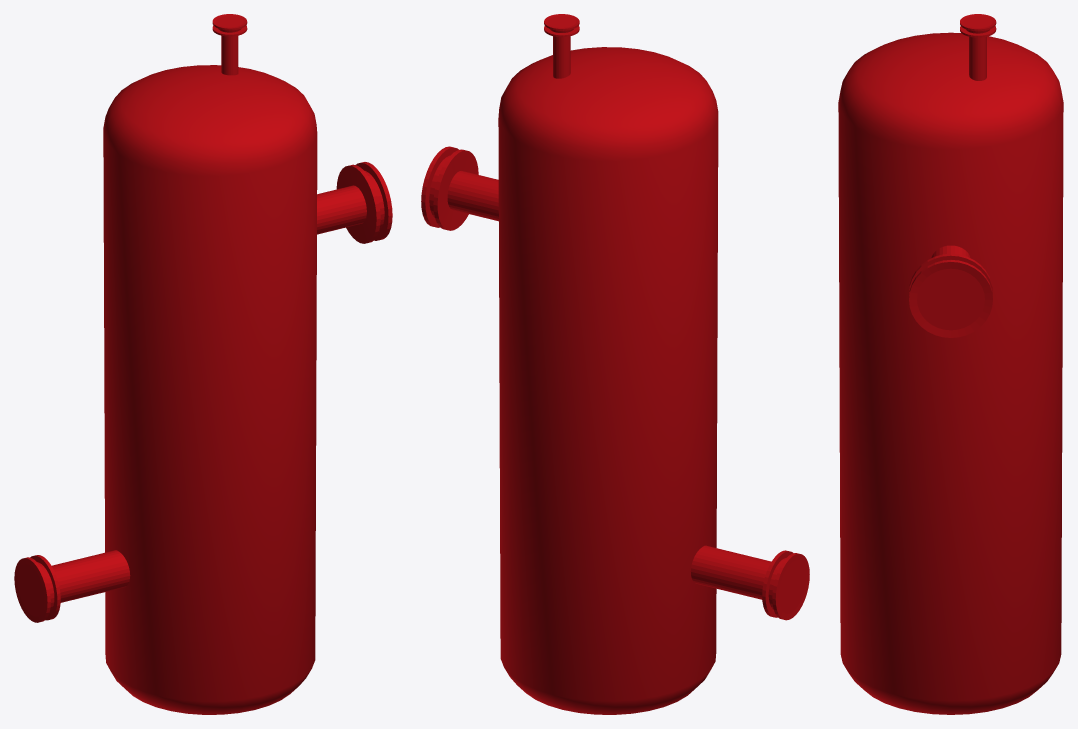
The model's file is ровв.fbx.
3 renders of one model, left to right at view 1: azimuth 30°, elevation 25°; view 2: azimuth 150°, elevation 25°; view 3: azimuth 270°, elevation 25°, orthographic. The views are drawn at different scales.
Visible parts, largest first — view 1: Sphere.011, Cylinder.042, Cylinder.041, Cylinder.040; view 2: Sphere.011, Cylinder.042, Cylinder.041, Cylinder.040; view 3: Sphere.011, Cylinder.041, Cylinder.040.
Boxes of the visible parts, <box> form: Sphere.011: <box>103,65,317,714</box>; Cylinder.042: <box>14,550,130,622</box>; Cylinder.041: <box>317,162,392,243</box>; Cylinder.040: <box>212,14,247,75</box>; Sphere.011: <box>498,47,718,714</box>; Cylinder.042: <box>691,545,809,620</box>; Cylinder.041: <box>421,146,498,230</box>; Cylinder.040: <box>544,14,579,78</box>; Sphere.011: <box>838,32,1063,714</box>; Cylinder.041: <box>909,245,992,337</box>; Cylinder.040: <box>960,14,996,80</box>.
Bounding box in the file's own units: 368 × 671 × 200.
